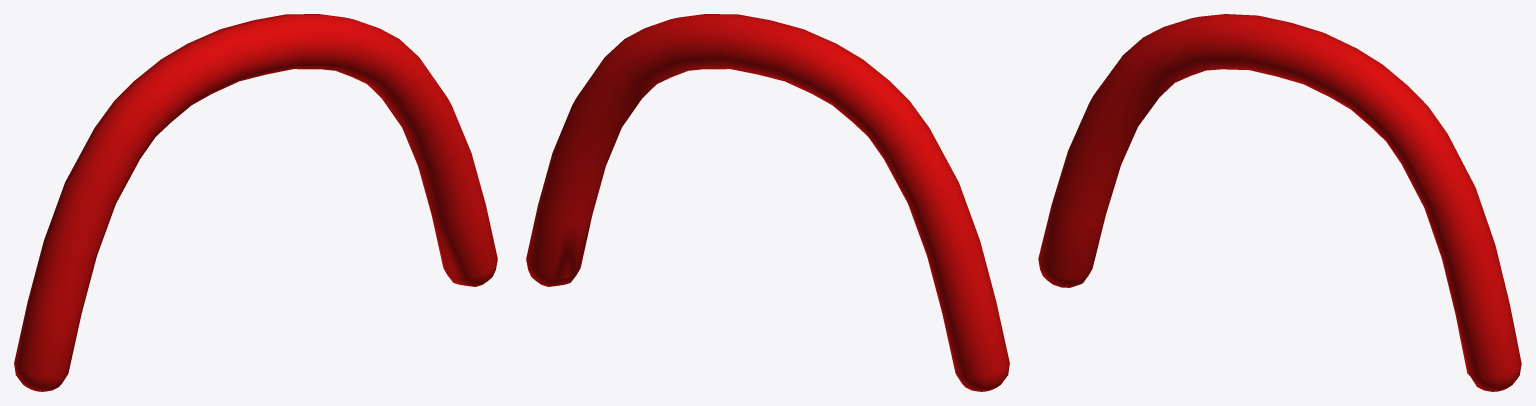
File: StartPost.FBX
3 renders of one model, left to right at view 1: azimuth 30°, elevation 25°; view 2: azimuth 150°, elevation 25°; view 3: azimuth 330°, elevation 25°, orthographic.
Visible parts, largest first — view 1: StartPost; view 2: StartPost; view 3: StartPost.
Part boxes in pixels (x1,y1,x2,y2): StartPost: (14, 14, 497, 391); StartPost: (526, 14, 1009, 391); StartPost: (1038, 14, 1521, 391).
Size of the model in its own units: 6.11 by 3.85 by 0.6165.
